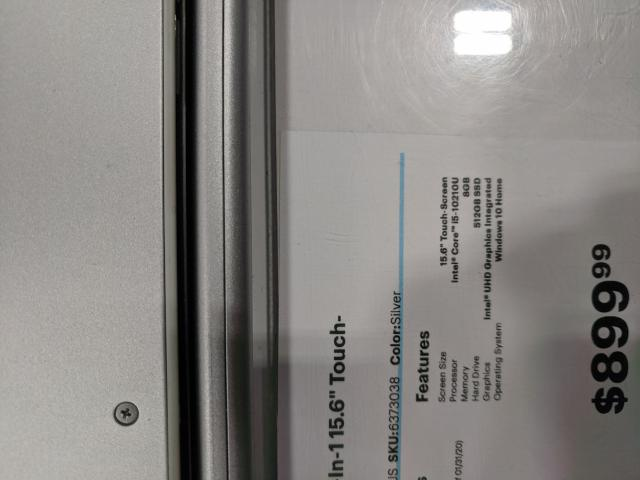CRS: (113, 401, 140, 426)
